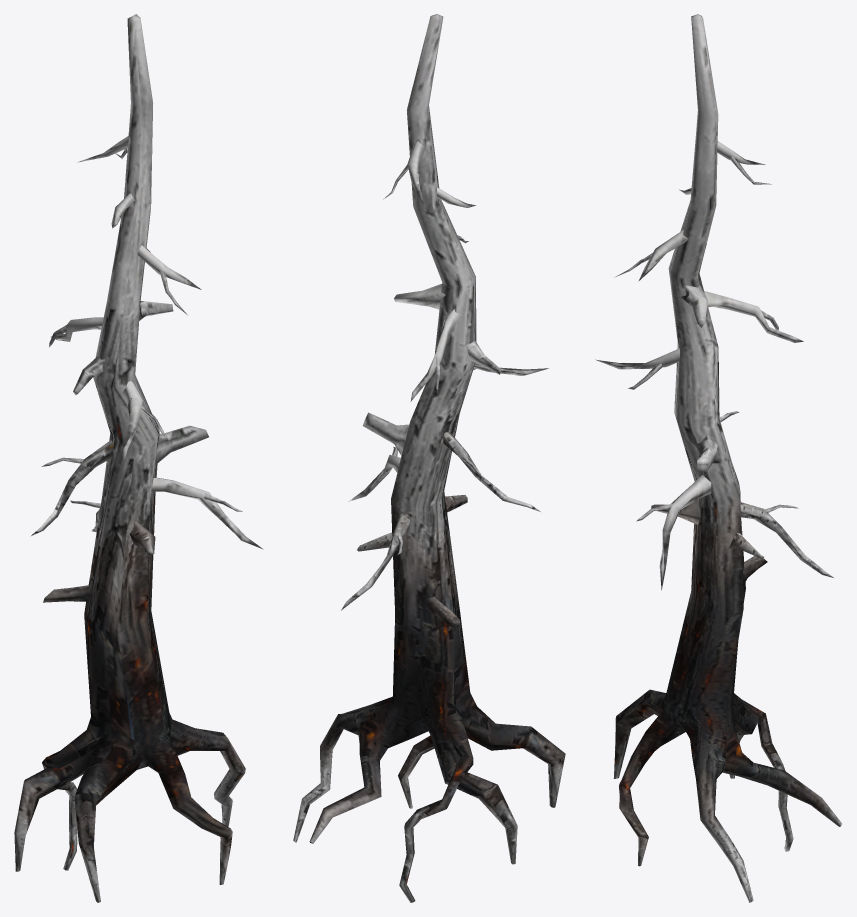
File: Vo_N_CharcoalTree03.FBX
3 renders of one model, left to right at view 1: azimuth 30°, elevation 25°; view 2: azimuth 150°, elevation 25°; view 3: azimuth 270°, elevation 25°, orthographic. The views are drawn at different scales.
Visible parts, largest first — view 1: Vo_N_CharcoalTree03; view 2: Vo_N_CharcoalTree03; view 3: Vo_N_CharcoalTree03.
Part boxes in pixels (bbox=[...]): Vo_N_CharcoalTree03: bbox=[14, 14, 263, 902]; Vo_N_CharcoalTree03: bbox=[293, 14, 565, 902]; Vo_N_CharcoalTree03: bbox=[595, 14, 841, 902].
Bounding box in the file's own units: 449 × 1664 × 442.
